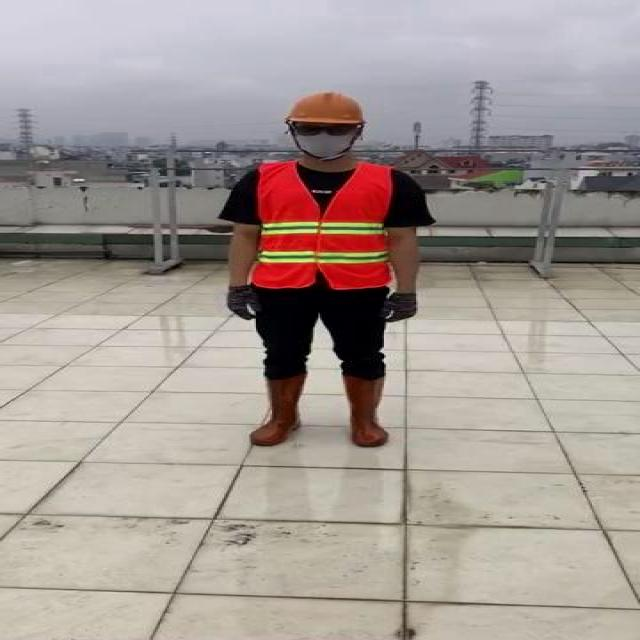boots: (244, 373, 308, 449), (345, 373, 393, 448)
face_mask: (290, 121, 361, 158)
glasses: (292, 120, 358, 140)
hand_glove: (219, 284, 261, 323), (379, 293, 421, 324)
head_helmet: (283, 90, 368, 126)
person: (223, 90, 431, 452)
vest: (254, 165, 395, 290)
